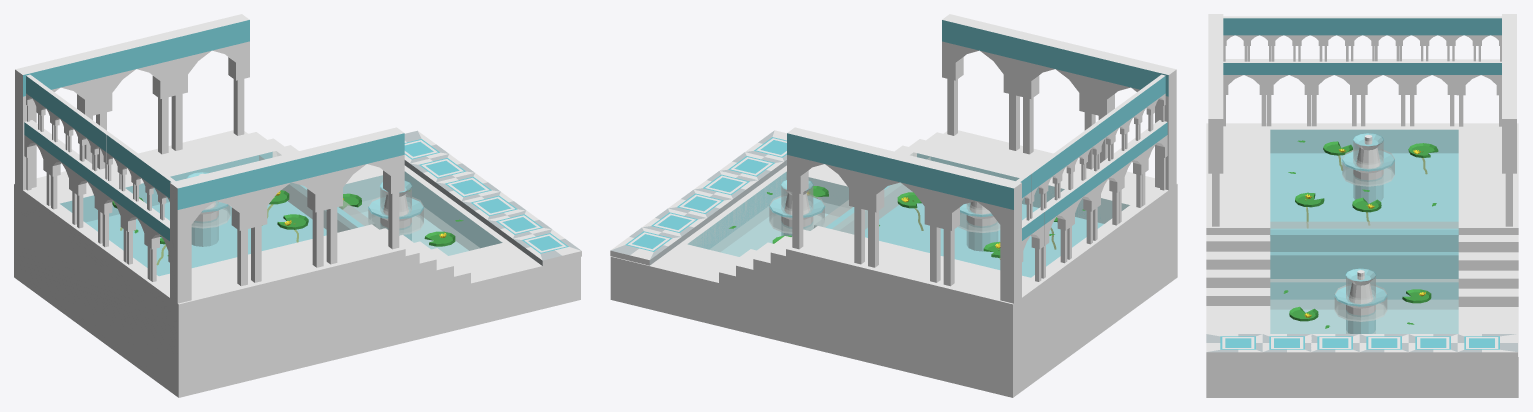
File: scene_6sY3JCaILY.glb
3 views of the same model, side by side, from view 1: azimuth 30°, elevation 25°; view 2: azimuth 150°, elevation 25°; view 3: azimuth 270°, elevation 25° (orthographic). The views are drawn at different scales.
Parts seen in each view (by area): view 1: Node; view 2: Node; view 3: Node.
Boxes of the visible parts, box(x1,y1,x2,y2) form: Node: box(14, 14, 581, 397); Node: box(610, 14, 1177, 397); Node: box(1206, 14, 1518, 397).
Bounding box in the file's own units: 1.17 × 0.58 × 0.8303.
